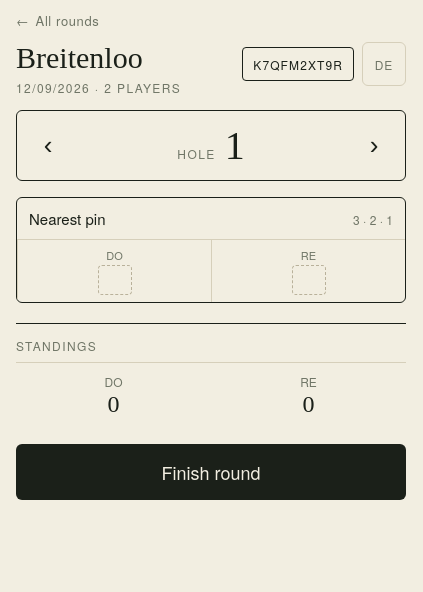
Test: LiveRound › refuses a tie when the challenge does not allow one
Click the button with test id "cell-c1-p1". click: [114, 270]
box: [17,240,211,302]
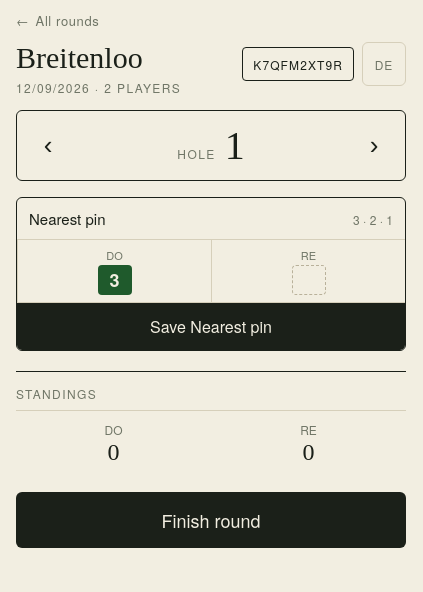
Click the button with test id "cell-c1-p2". click: [308, 270]
box: [211,240,405,302]
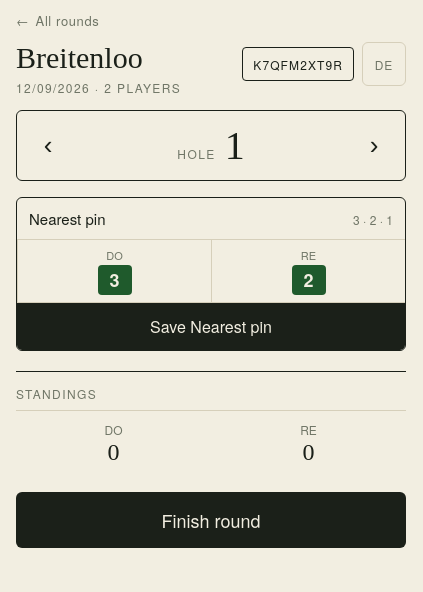
Click the button with test id "cell-c1-p2". click: [308, 270]
box: [211,240,405,302]
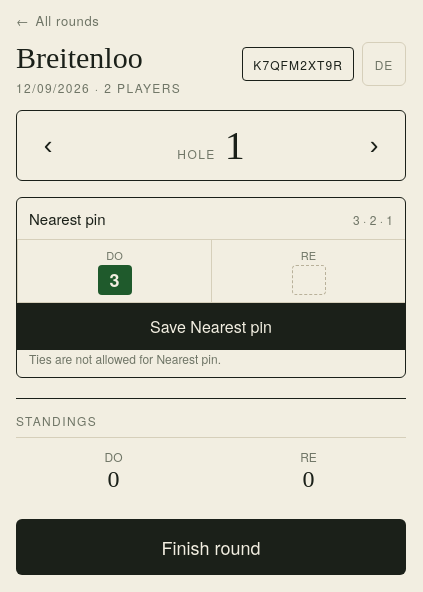
Expected: the element with test id "cell-c1-p2" does not show "2"
Expected: the button with test id "cell-c1-p1" shows "3", [17,240,211,302]
Expected: the text "Ties are not allowed for Nearest pin." is shown, [29,350,221,366]
